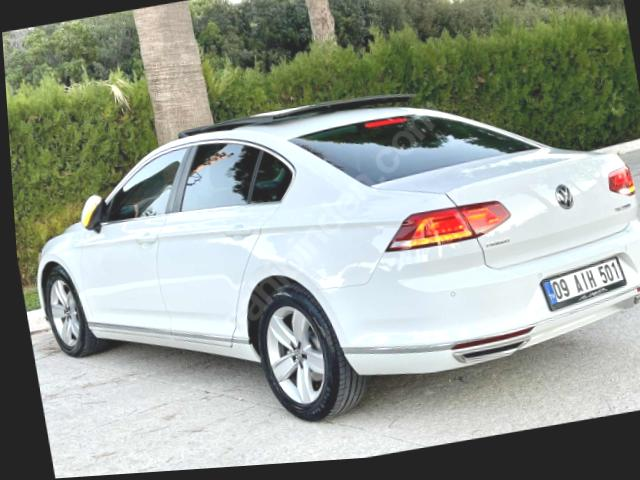plaka: (542, 257, 627, 310)
